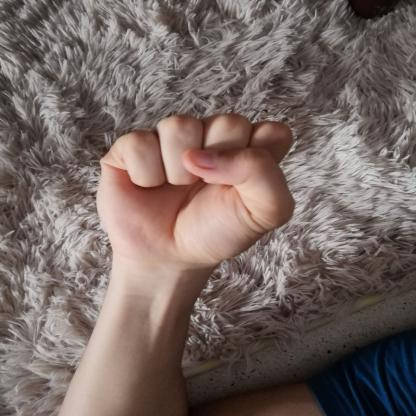SAD: (78, 95, 312, 282)
